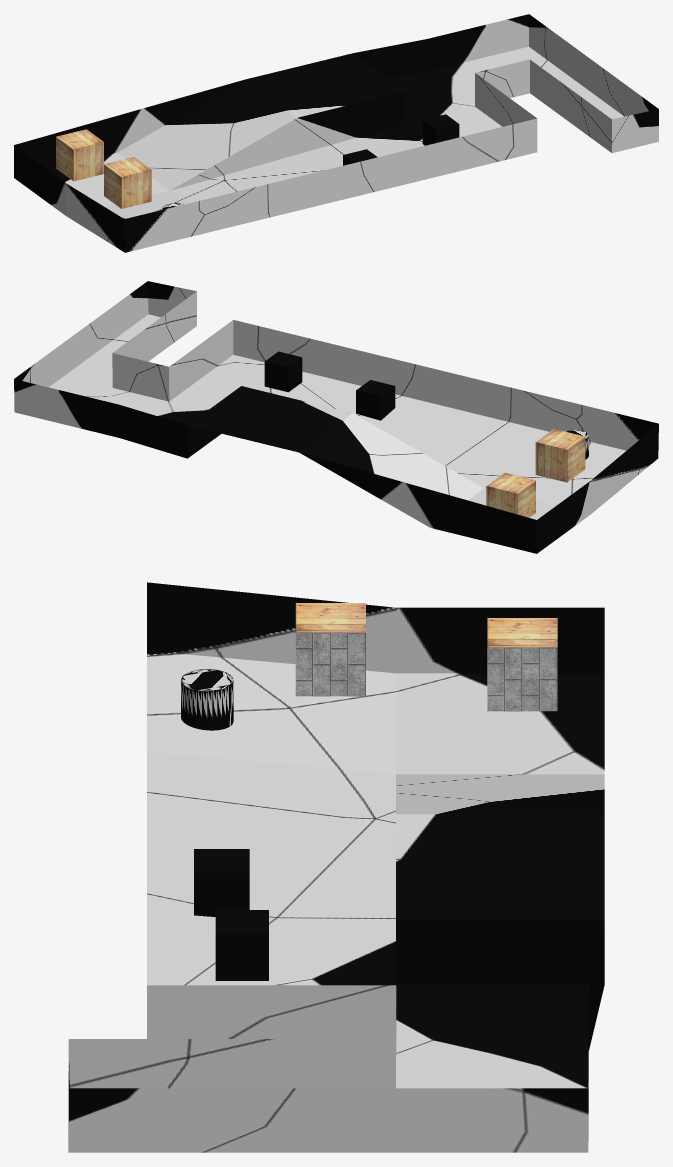
The model's file is StageTextureQ.fbx.
The picture shows the model from 3 angles, top to bottom: view 1: azimuth 30°, elevation 25°; view 2: azimuth 150°, elevation 25°; view 3: azimuth 270°, elevation 25°; orthographic projection. The views are drawn at different scales.
Parts seen in each view (by area): view 1: Plane, Cube, Cube.001; view 2: Plane, Cube, Cube.001; view 3: Plane, Cube.001, Cube.
Part boxes in pixels (<box>): Plane: <box>14,14,658,252</box>; Cube: <box>104,157,151,208</box>; Cube.001: <box>56,129,103,181</box>; Plane: <box>14,281,658,553</box>; Cube: <box>535,429,585,482</box>; Cube.001: <box>486,472,535,517</box>; Plane: <box>68,582,604,1152</box>; Cube.001: <box>487,618,557,711</box>; Cube: <box>295,603,365,696</box>.
Size of the model in its own units: 67.64 by 6.27 by 30.49.
